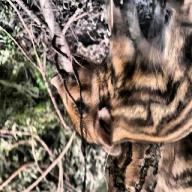boar: (50, 0, 191, 156)
